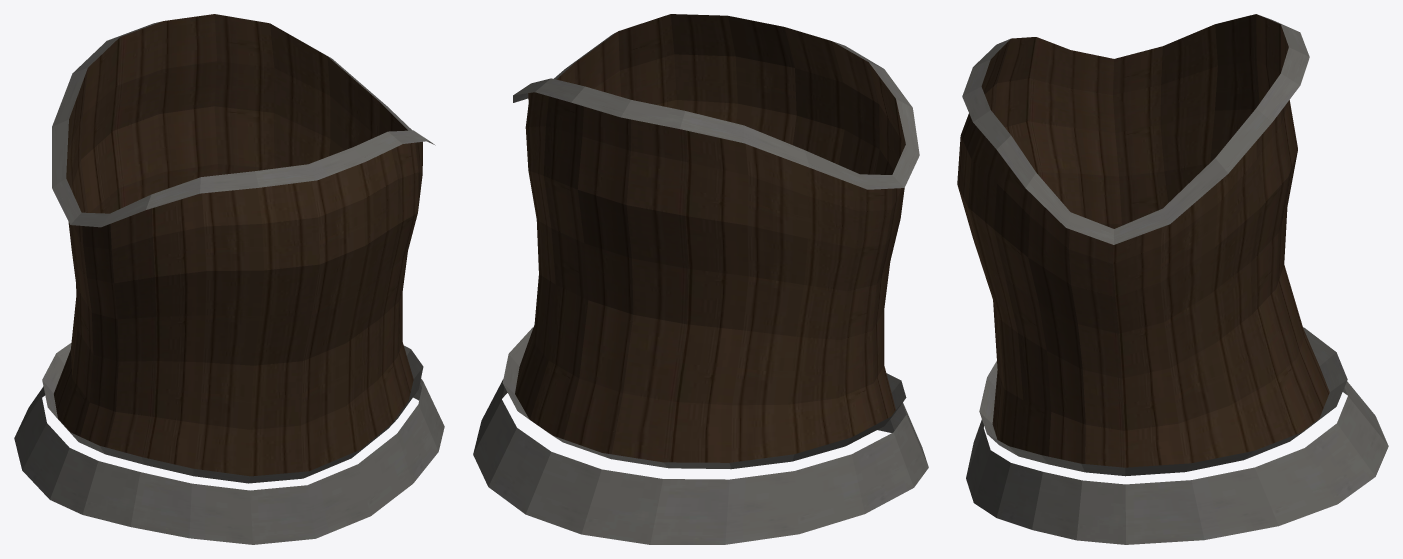
Rendered from eq_past_1_chest.glb.
3 views of the same model, side by side, from view 1: azimuth 30°, elevation 25°; view 2: azimuth 150°, elevation 25°; view 3: azimuth 270°, elevation 25° (orthographic). The views are drawn at different scales.
Visible parts, largest first — view 1: eq_past_1_chest; view 2: eq_past_1_chest; view 3: eq_past_1_chest.
Boxes of the visible parts, <box> form: eq_past_1_chest: <box>14,14,444,544</box>; eq_past_1_chest: <box>473,14,928,544</box>; eq_past_1_chest: <box>957,14,1388,544</box>.
Size of the model in its own units: 0.4617 by 0.4708 by 0.4268.
2 materials, 2 textured.
